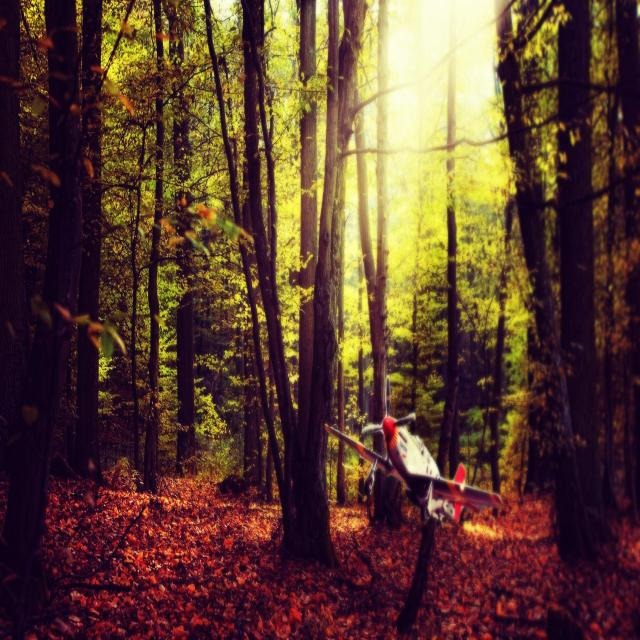airplane: (323, 374, 503, 528)
